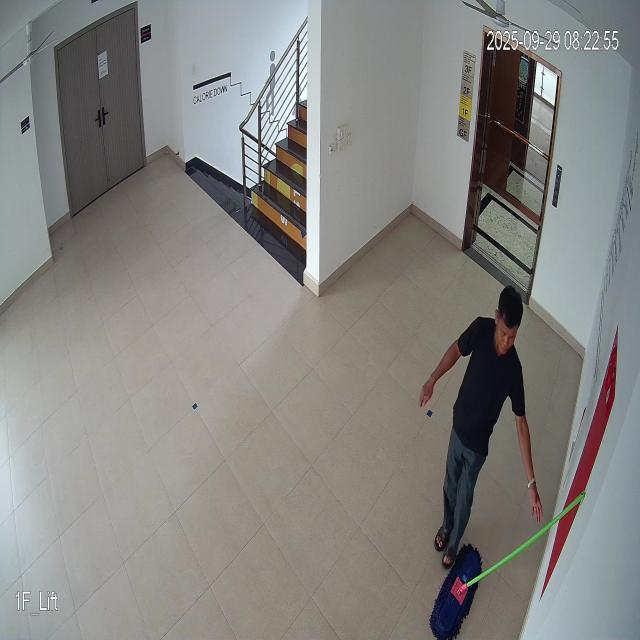face: (491, 284, 527, 356)
